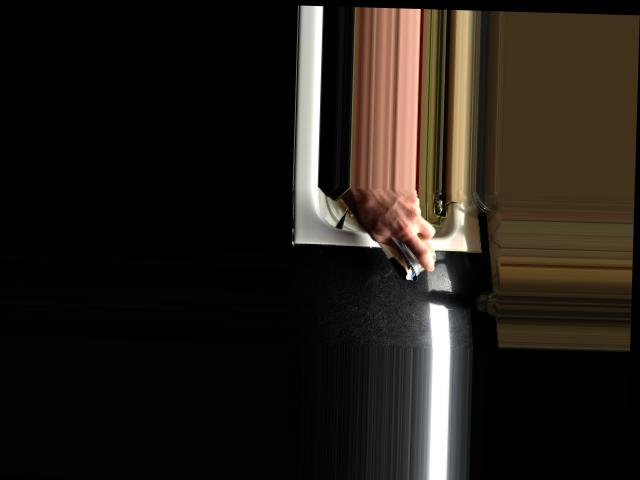cheese: (364, 193, 433, 284)
